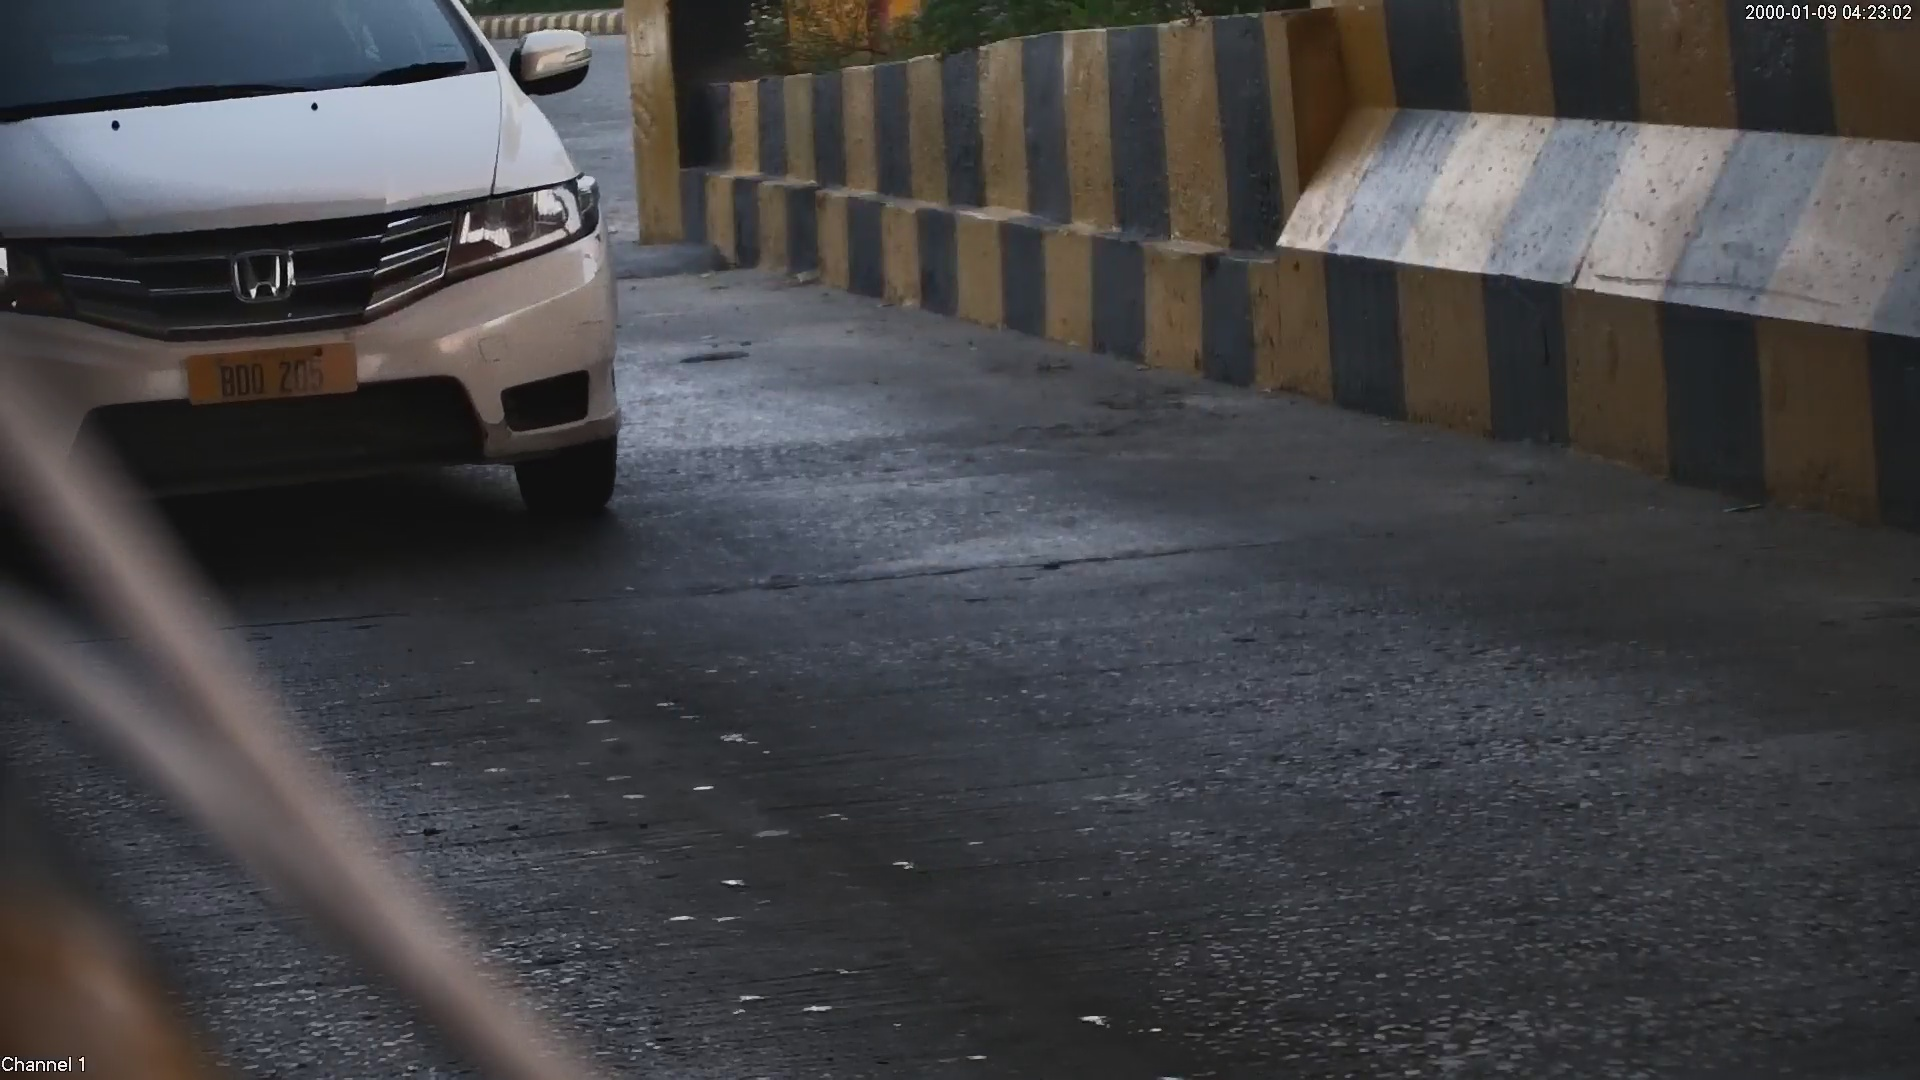Number_Plate: (184, 336, 369, 407)
